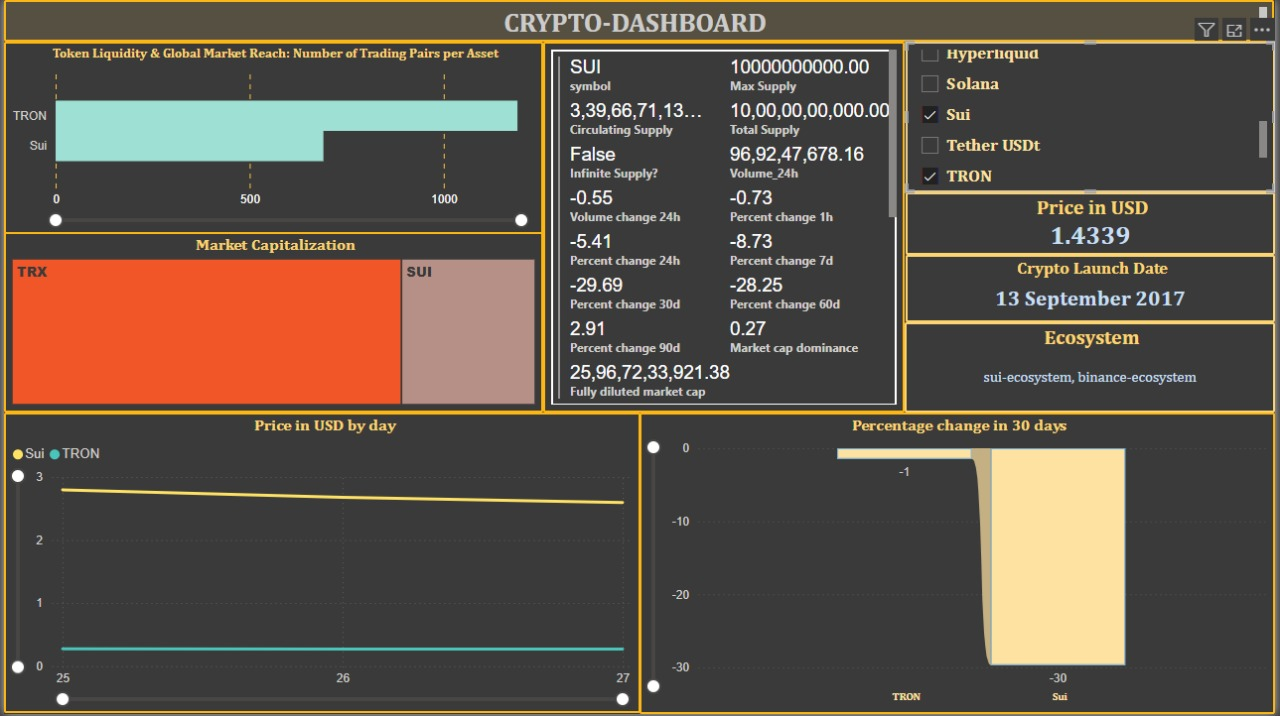

The page's visual inventory and layout, read from the dashboard file:
{"tool":"powerbi","page":{"name":"Page 1","canvas":[1280,720],"ordinal":0},"visuals":[{"type":"barChart","title":"Token Liquidity & Global Market Reach: Number of Trading Pairs per Asset","fields":{"Category":["Cryptop_API (2).name"],"Y":["Avg(Cryptop_API (2).num_market_pairs)"]},"box":[0,42,543,194],"z":0},{"type":"card","title":"Crypto Launch Date","fields":{"Values":["Min(Cryptop_API.date_added)"]},"box":[908,257,372,68],"z":1000},{"type":"treemap","title":"Market Capitalization","fields":{"Group":["Cryptop_API (2).symbol"],"Values":["Avg(Cryptop_API (2).quote.USD.market_cap)"]},"box":[0,234,543,182],"z":2000},{"type":"lineChart","title":"Price in USD  by day","fields":{"Category":["Cryptop_API (2).timestamp.Variation.Date Hierarchy.Day"],"Y":["Avg(Cryptop_API (2).quote.USD.price)"],"Series":["Cryptop_API (2).name"]},"box":[0,416,641,303],"z":3000},{"type":"card","title":"Price in USD","fields":{"Values":["Avg(Cryptop_API (2).quote.USD.price)"]},"box":[908,194,372,63],"z":4000},{"type":"multiRowCard","fields":{"Values":["Cryptop_API (2).symbol","Avg(Cryptop_API (2).max_supply)","Avg(Cryptop_API (2).circulating_supply)","Avg(Cryptop_API (2).total_supply)","Cryptop_API (2).infinite_supply","Avg(Cryptop_API (2).quote.USD.volume_24h)","Avg(Cryptop_API (2).quote.USD.volume_change_24h)","Avg(Cryptop_API (2).quote.USD.percent_change_1h)","Avg(Cryptop_API (2).quote.USD.percent_change_24h)","Avg(Cryptop_API (2).quote.USD.percent_change_7d)","Avg(Cryptop_API (2).quote.USD.percent_change_30d)","Avg(Cryptop_API (2).quote.USD.percent_change_60d)"]},"box":[543,42,364,374],"z":5000},{"type":"columnChart","title":"Percentage change in 30 days","fields":{"Category":["Cryptop_API (2).name"],"Y":["Avg(Cryptop_API (2).quote.USD.percent_change_30d)"]},"box":[640,416,640,304],"z":6000},{"type":"slicer","fields":{"Values":["Cryptop_API.name"]},"box":[908,42,372,152],"z":7000},{"type":"card","title":"Ecosystem","fields":{"Values":["Min(Cryptop_API.Ecosystem)"]},"box":[907,325,373,91],"z":8000},{"type":"textbox","box":[0,0,1279,42],"z":9000}]}

Visuals, with their boxes in screenshot pixels (x1, y1, x2, y2), scaled from the page's 1280x720 canvas onto the 1280x716 screenshot:
"Token Liquidity & Global Market Reach: Number of Trading Pairs per Asset" barChart: {"x1": 0, "y1": 42, "x2": 543, "y2": 235}
"Crypto Launch Date" card: {"x1": 908, "y1": 256, "x2": 1279, "y2": 323}
"Market Capitalization" treemap: {"x1": 0, "y1": 233, "x2": 543, "y2": 414}
"Price in USD  by day" lineChart: {"x1": 0, "y1": 414, "x2": 641, "y2": 715}
"Price in USD" card: {"x1": 908, "y1": 193, "x2": 1279, "y2": 256}
multiRowCard - Cryptop_API (2).symbol x Avg(Cryptop_API (2).max_supply): {"x1": 543, "y1": 42, "x2": 907, "y2": 414}
"Percentage change in 30 days" columnChart: {"x1": 640, "y1": 414, "x2": 1279, "y2": 715}
slicer - Cryptop_API.name: {"x1": 908, "y1": 42, "x2": 1279, "y2": 193}
"Ecosystem" card: {"x1": 907, "y1": 323, "x2": 1279, "y2": 414}
textbox: {"x1": 0, "y1": 0, "x2": 1279, "y2": 42}
